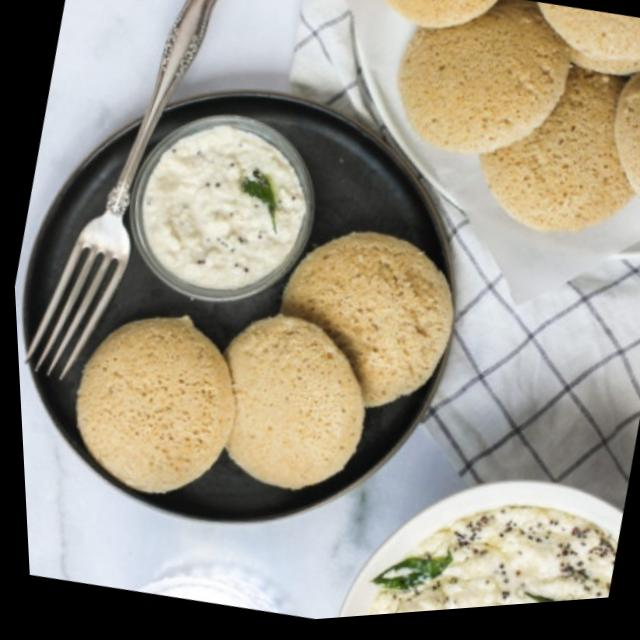IDLI: (75, 231, 453, 493), (386, 0, 640, 236)
WHITE CHUTNEY: (138, 123, 308, 292), (364, 505, 618, 615)
